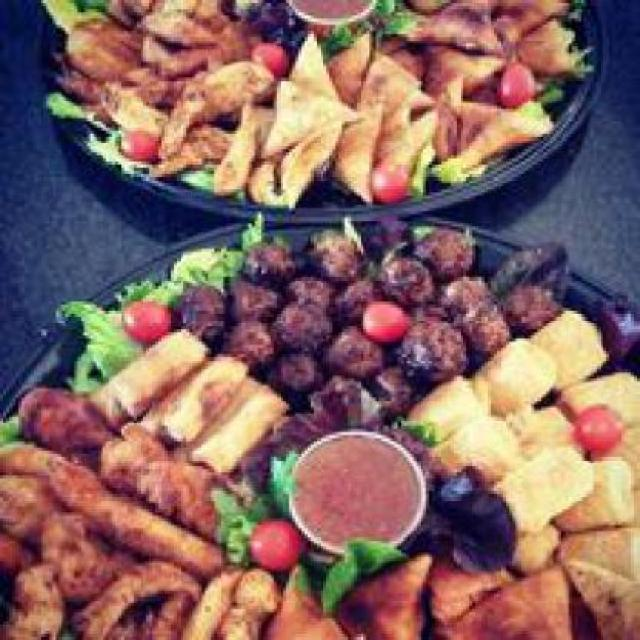samosa: (273, 540, 562, 637)
spring rolls: (87, 329, 285, 466)
